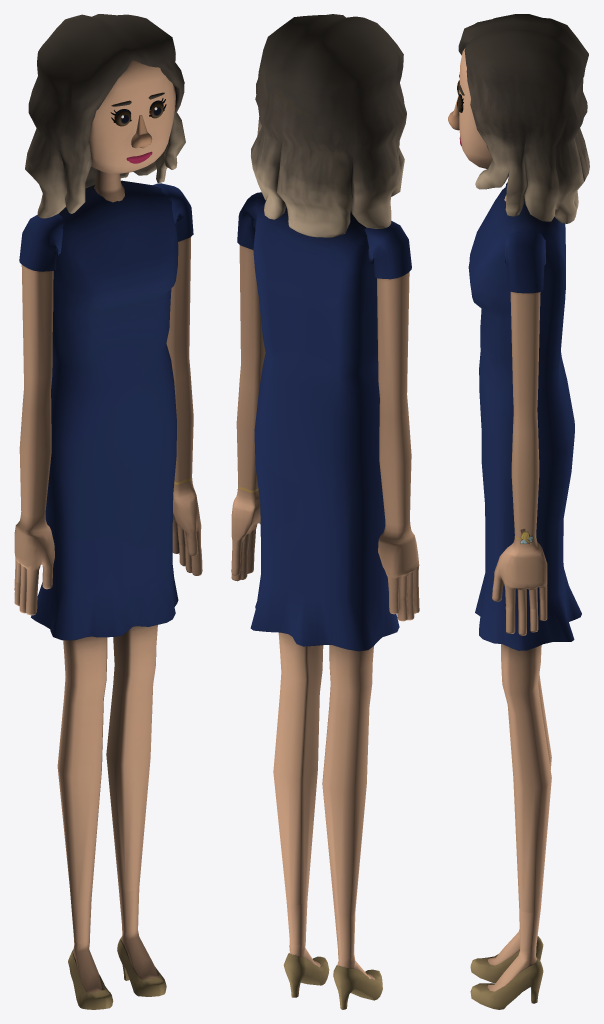
The model's file is viv.obj.
3 views of the same model, side by side, from view 1: azimuth 30°, elevation 25°; view 2: azimuth 150°, elevation 25°; view 3: azimuth 270°, elevation 25° (orthographic).
Parts seen in each view (by area): view 1: BodyWhole_WholeArms_BodyWhole_WholeArmsmesh; view 2: BodyWhole_WholeArms_BodyWhole_WholeArmsmesh; view 3: BodyWhole_WholeArms_BodyWhole_WholeArmsmesh.
Boxes of the visible parts, x1,y1,x2,y2 form: BodyWhole_WholeArms_BodyWhole_WholeArmsmesh: [14, 14, 202, 1009]; BodyWhole_WholeArms_BodyWhole_WholeArmsmesh: [231, 14, 419, 1009]; BodyWhole_WholeArms_BodyWhole_WholeArmsmesh: [448, 14, 589, 1009].
Bounding box in the file's own units: 0.0357 × 0.1875 × 0.025.
